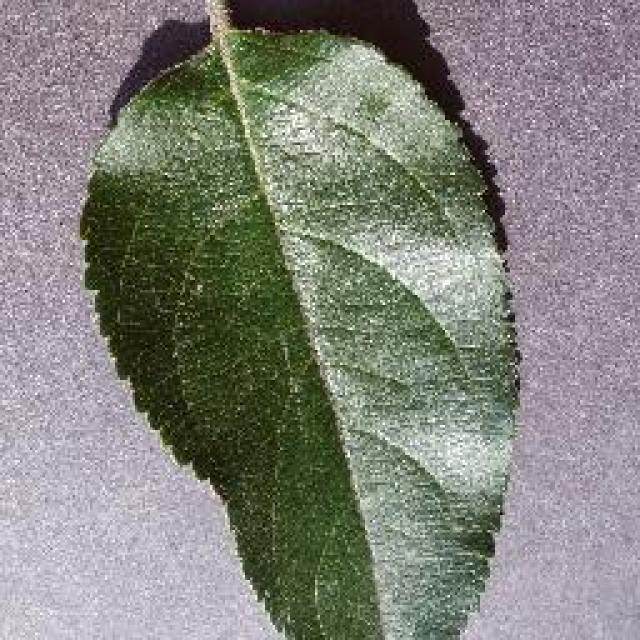apple healthy: (75, 0, 525, 638)
